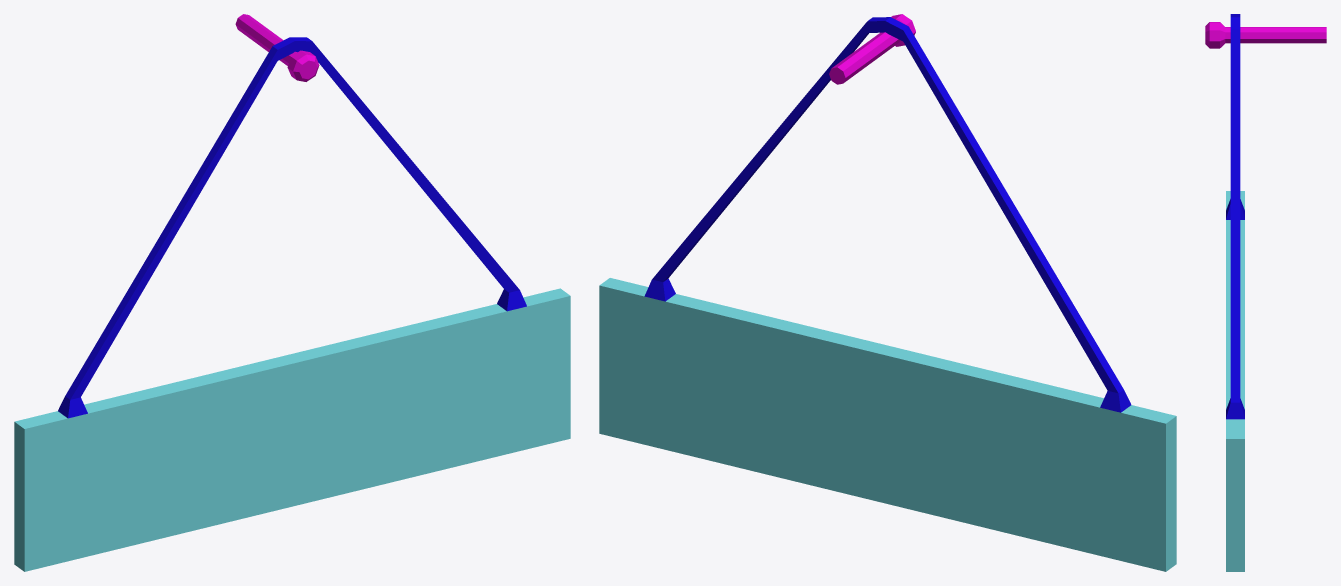
File: insegna_ProdottiCasa.fbx
The picture shows the model from 3 angles, left to right: view 1: azimuth 30°, elevation 25°; view 2: azimuth 150°, elevation 25°; view 3: azimuth 270°, elevation 25°; orthographic projection. The views are drawn at different scales.
Visible parts, largest first — view 1: ProdottiCasa; view 2: ProdottiCasa; view 3: ProdottiCasa.
Part boxes in pixels (x1=…): ProdottiCasa: x1=14, y1=14, x2=570, y2=571; ProdottiCasa: x1=599, y1=14, x2=1176, y2=571; ProdottiCasa: x1=1205, y1=14, x2=1326, y2=571.
Size of the model in its own units: 600 by 486 by 124.
